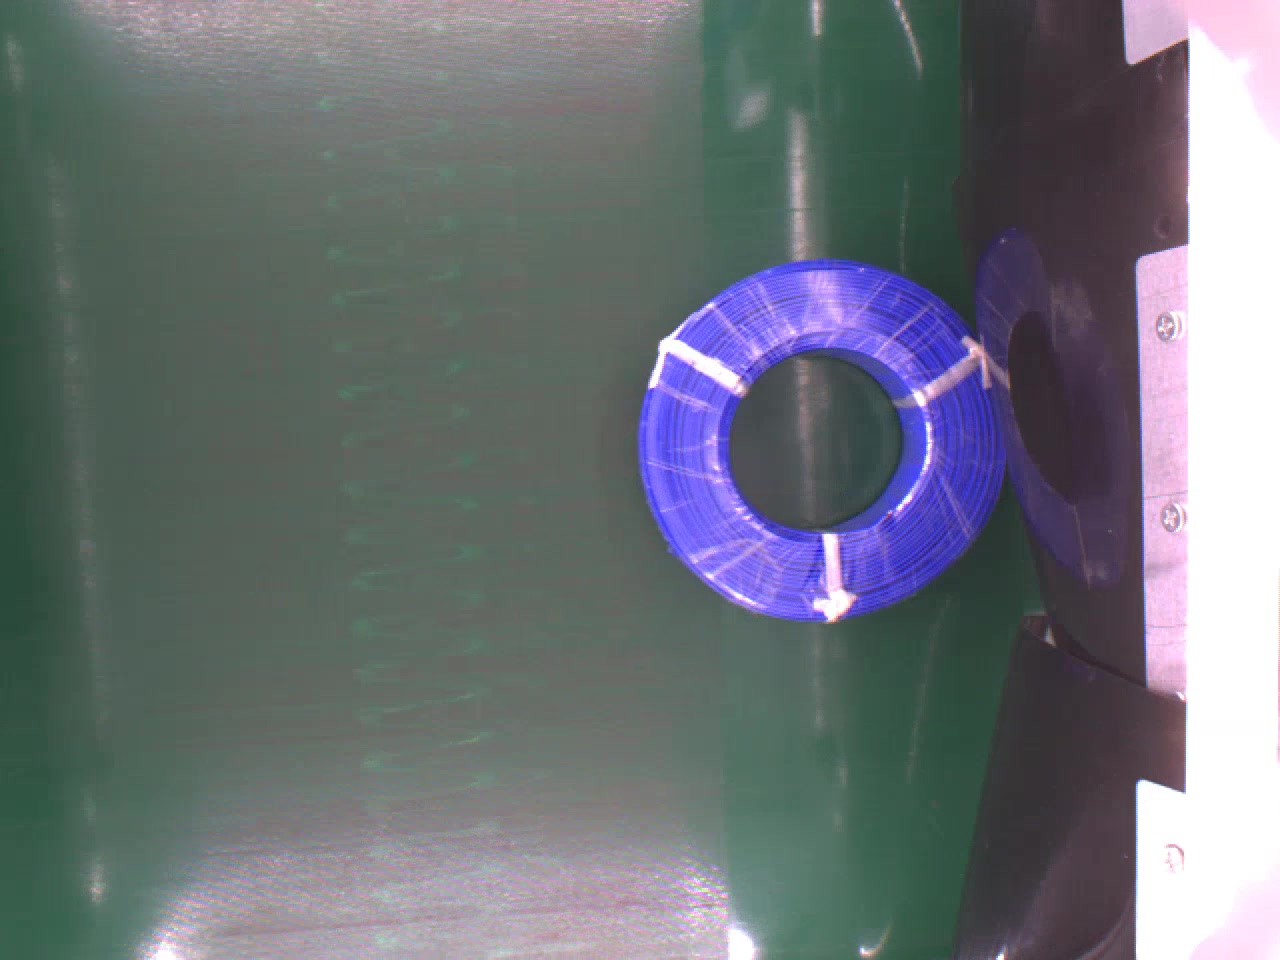blue: (641, 255, 1006, 626)
